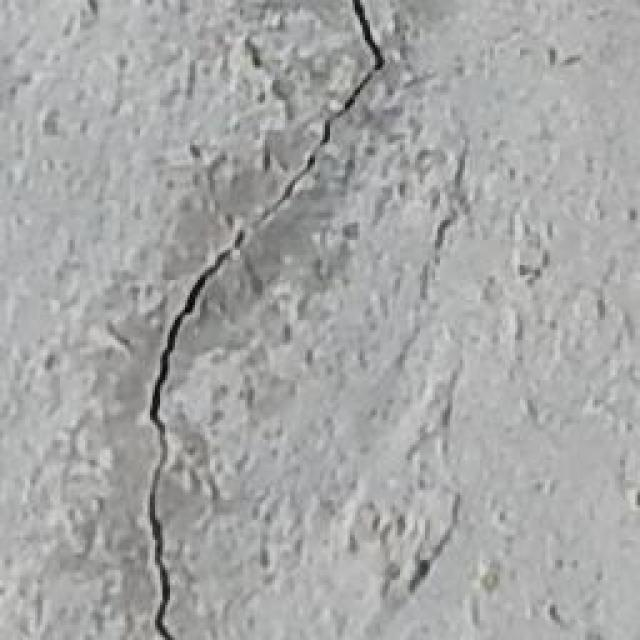concrete-crack: (144, 2, 392, 639)
